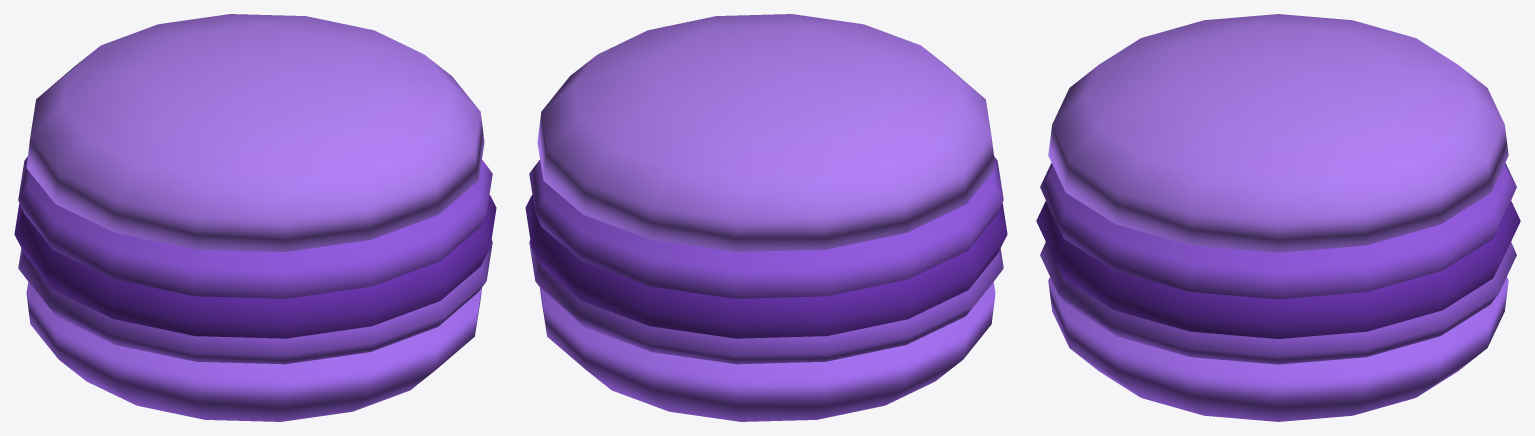
Rendered from Cookie_06.glb.
3 views of the same model, side by side, from view 1: azimuth 30°, elevation 25°; view 2: azimuth 150°, elevation 25°; view 3: azimuth 270°, elevation 25° (orthographic).
Visible parts, largest first — view 1: Cookie_06; view 2: Cookie_06; view 3: Cookie_06.
Boxes of the visible parts, <box> form: Cookie_06: <box>14,14,496,421</box>; Cookie_06: <box>525,14,1007,421</box>; Cookie_06: <box>1036,14,1520,421</box>.
Bounding box in the file's own units: 2.05 × 1.44 × 2.05.
1 material, 1 textured.
